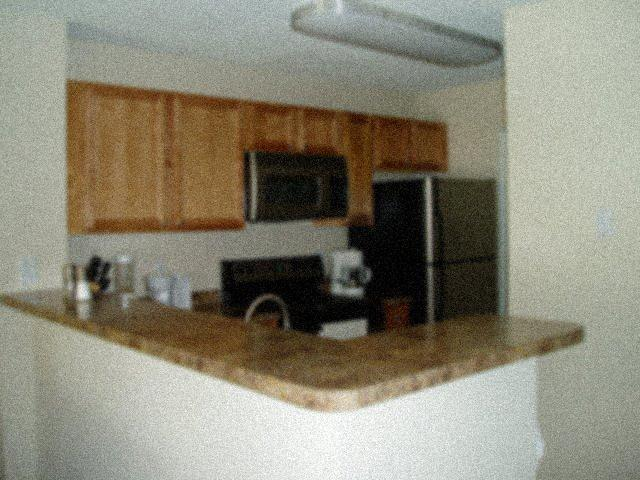Electrodomestico: (418, 180, 498, 312), (230, 259, 320, 328), (318, 303, 384, 338)
